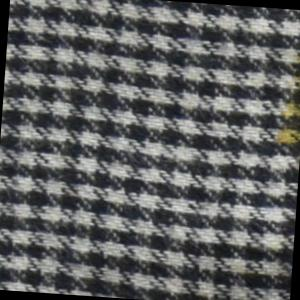Stain: (276, 50, 300, 162)
